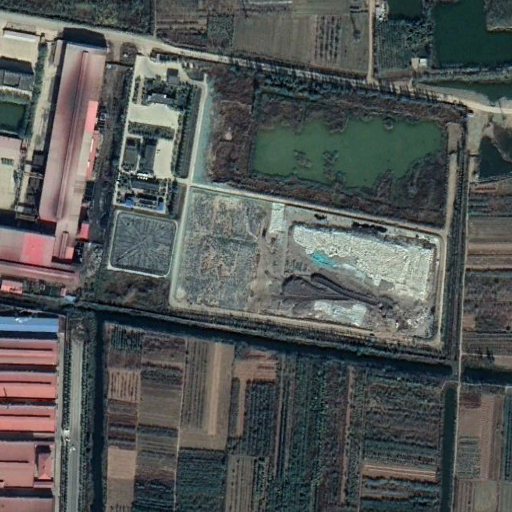lf: (172, 184, 444, 347)
